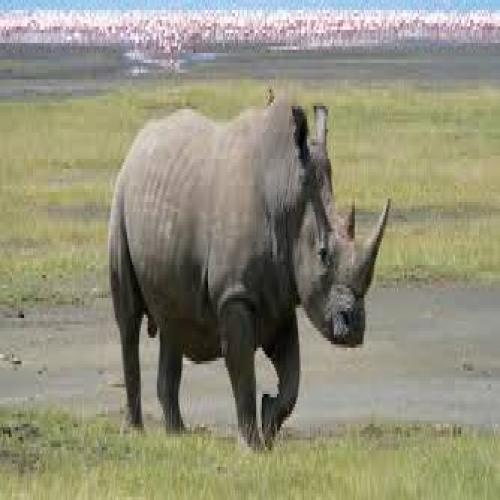rhino-endangered: (110, 98, 392, 430)
